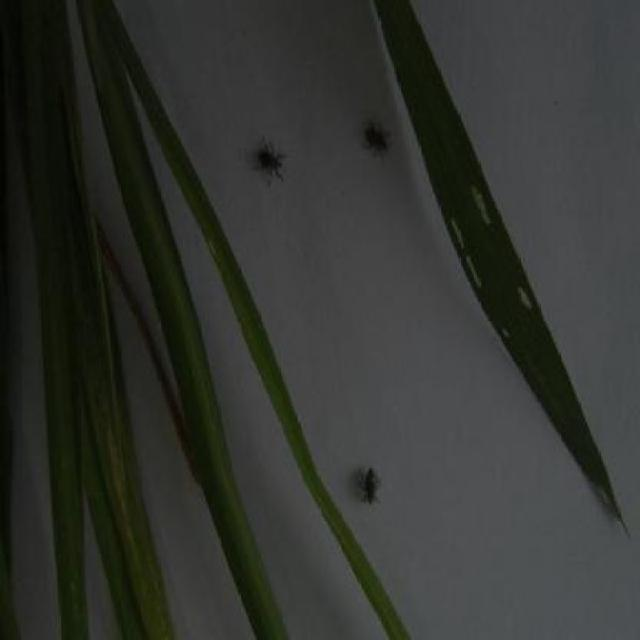rice-bug: (356, 459, 390, 506), (256, 136, 287, 184), (362, 119, 395, 164)
